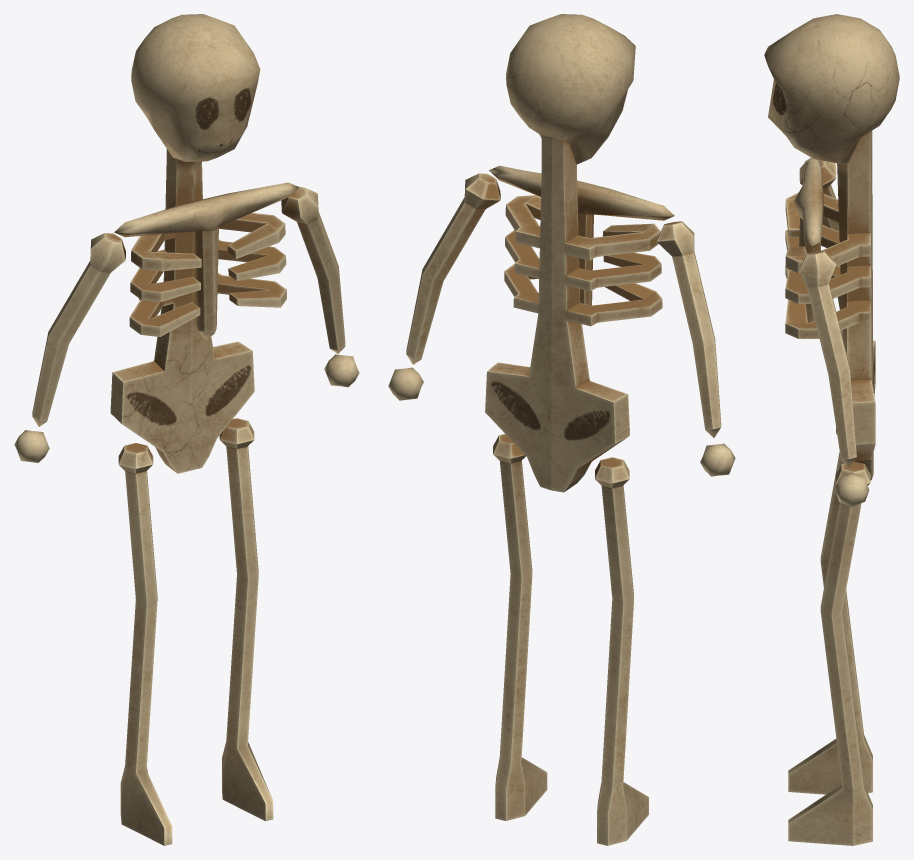
File: skeleton_textured_rae.fbx
The picture shows the model from 3 angles, left to right: view 1: azimuth 30°, elevation 25°; view 2: azimuth 150°, elevation 25°; view 3: azimuth 270°, elevation 25°; orthographic projection.
Visible parts, largest first — view 1: skeleton; view 2: skeleton; view 3: skeleton.
Boxes of the visible parts, <box> form: skeleton: <box>14,14,359,845</box>; skeleton: <box>388,14,735,845</box>; skeleton: <box>764,14,899,845</box>.
Size of the model in its own units: 0.8696 by 1.94 by 0.3012.
Materials: 1 (1 with a texture image).
